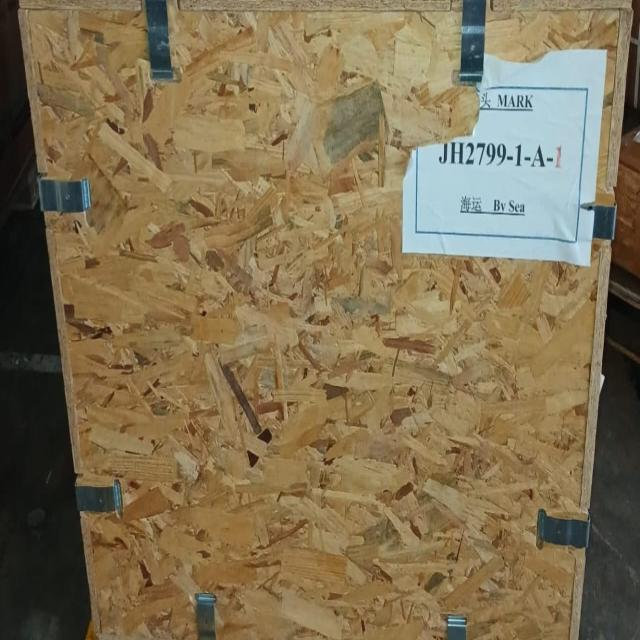export_mark_label: (426, 64, 587, 262)
wooden_box: (10, 0, 640, 640)
